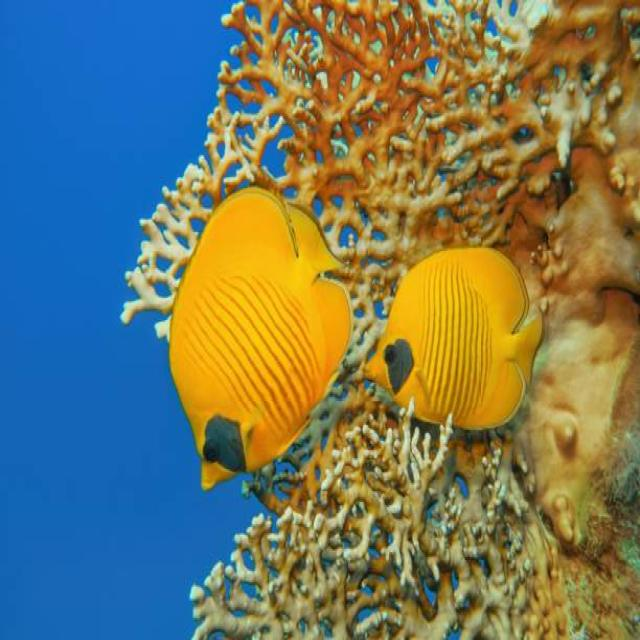ButterflyFish: (166, 184, 355, 495), (362, 233, 545, 437)
